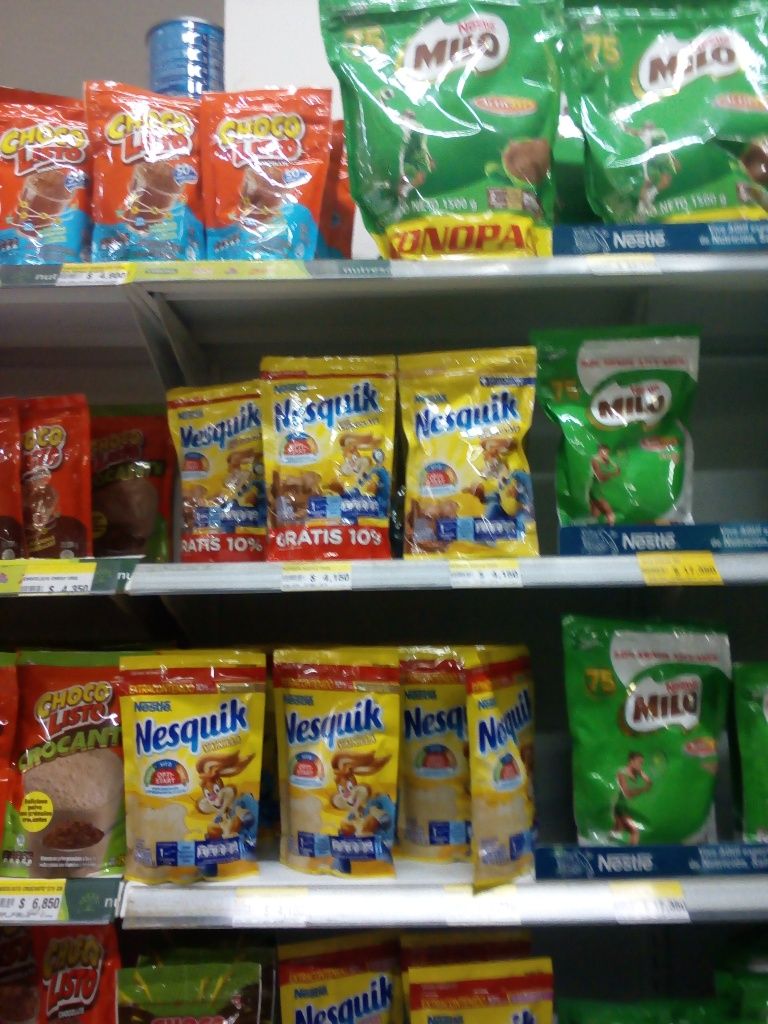COL0170104DYP20000: (0, 82, 94, 266)
COL0170205DYP50000: (549, 612, 728, 851)
COL0170303DYP20000: (394, 349, 541, 559)
